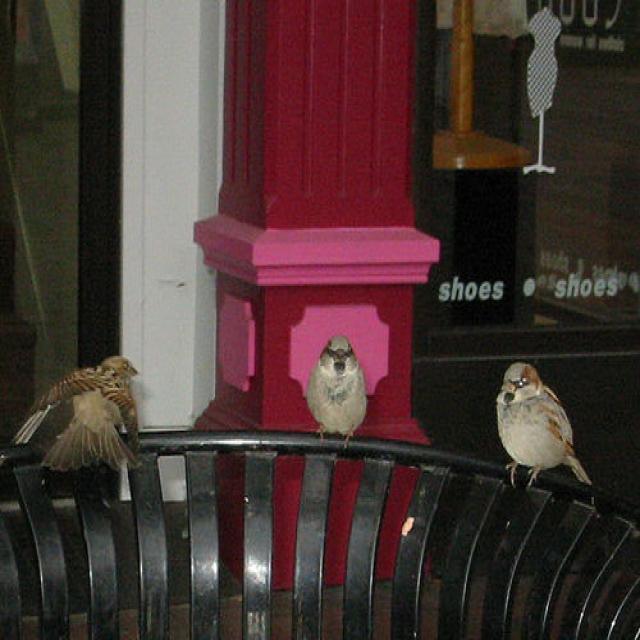bird: (12, 355, 145, 469), (497, 362, 593, 491), (306, 335, 371, 444)
